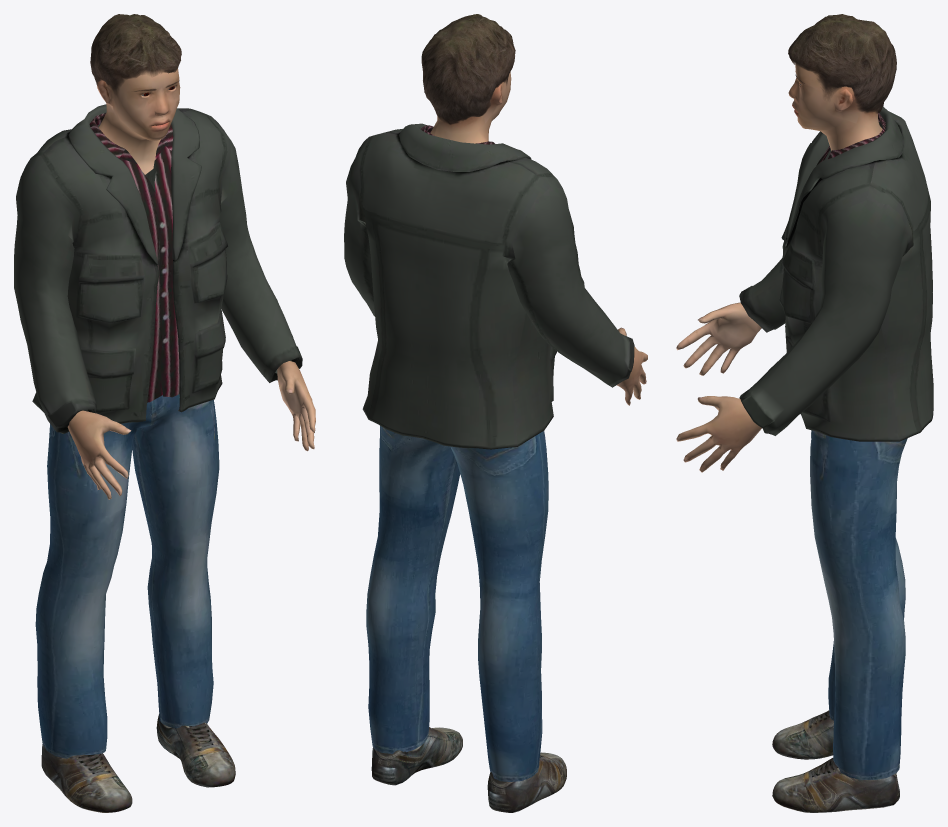
File: human.glb
3 renders of one model, left to right at view 1: azimuth 30°, elevation 25°; view 2: azimuth 150°, elevation 25°; view 3: azimuth 270°, elevation 25°, orthographic.
Visible parts, largest first — view 1: Human.male_casualsuit05, Human.male1591, Human.shoes02, Human.short02; view 2: Human.male_casualsuit05, Human.short02, Human.shoes02, Human.male1591; view 3: Human.male_casualsuit05, Human.male1591, Human.short02, Human.shoes02.
Part boxes in pixels (x1,y1,x2,y2): Human.male_casualsuit05: (14,104,302,758); Human.male1591: (67,68,315,499); Human.shoes02: (41,714,235,812); Human.short02: (90,14,181,96); Human.male_casualsuit05: (344,123,634,781); Human.short02: (421,14,515,124); Human.shoes02: (371,727,566,812); Human.male1591: (430,72,647,405); Human.male_casualsuit05: (739,106,933,779); Human.male1591: (676,63,882,472); Human.short02: (788,14,896,113); Human.shoes02: (772,710,899,812).
Size of the model in its own units: 0.5868 by 1.69 by 0.5193.
Materials: 6 (6 with a texture image).
